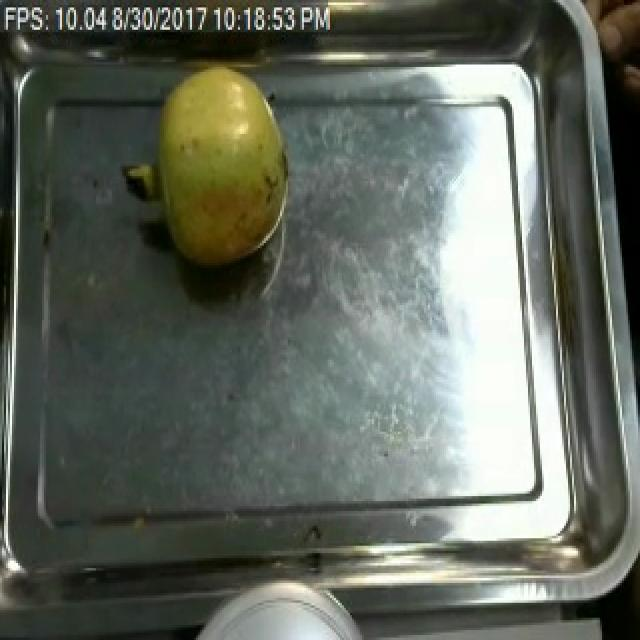fruit: (116, 57, 300, 273), (586, 0, 640, 102)
